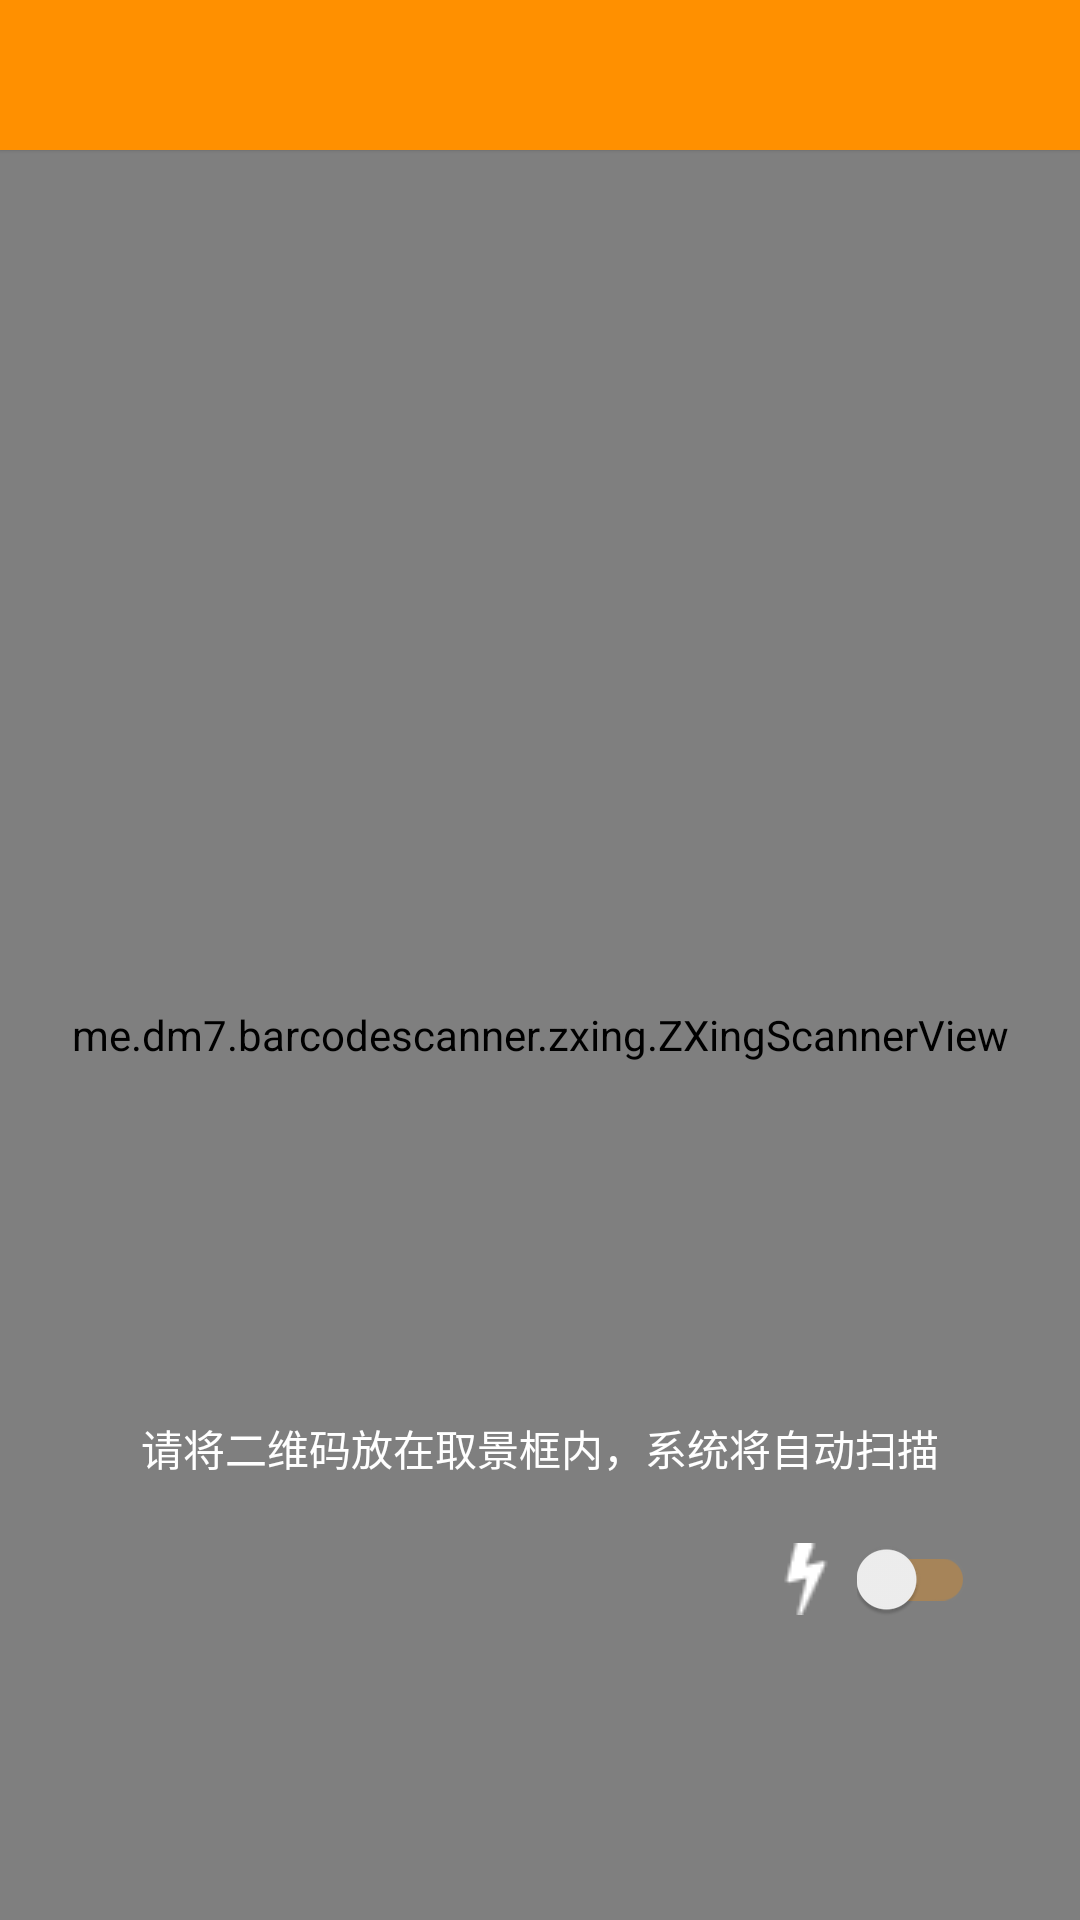

Named icons in this screenshot (1080 × 1920) and their bounding boxes, (x1, y1, x2, y2):
flash: (785, 1543, 826, 1615)
